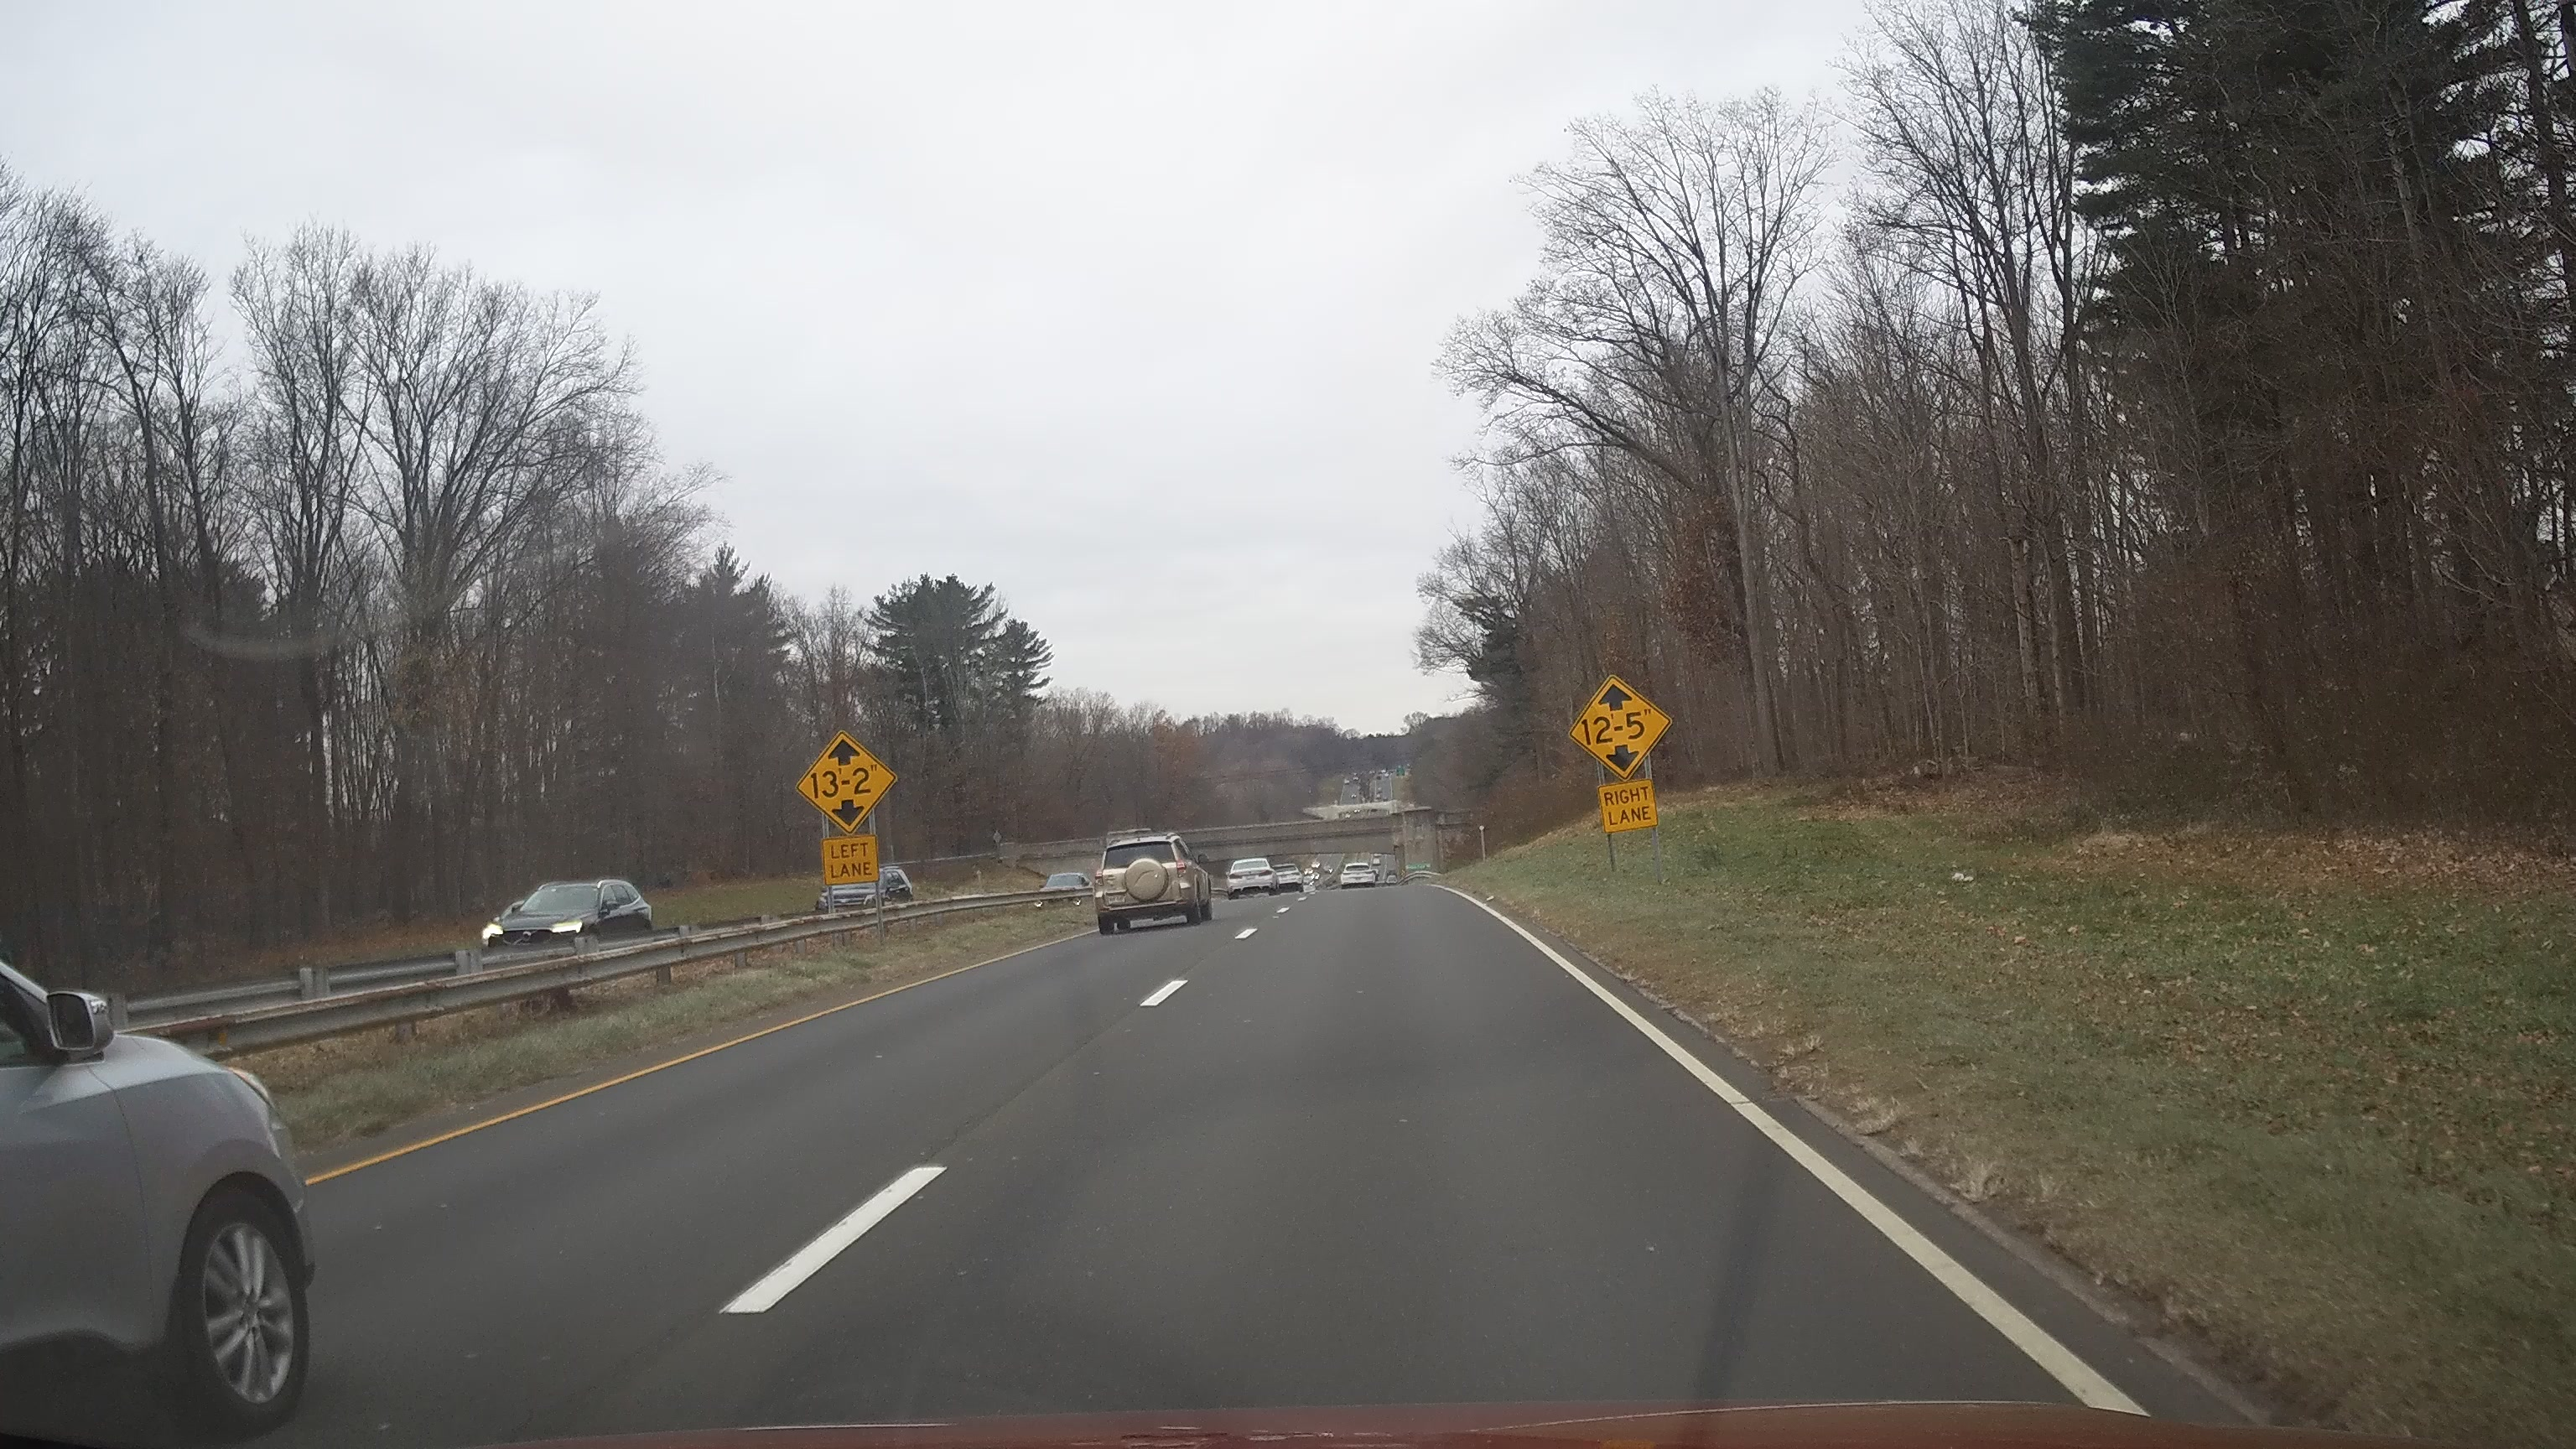low-clearance-sign: (1568, 674, 1674, 782), (794, 729, 899, 837)
